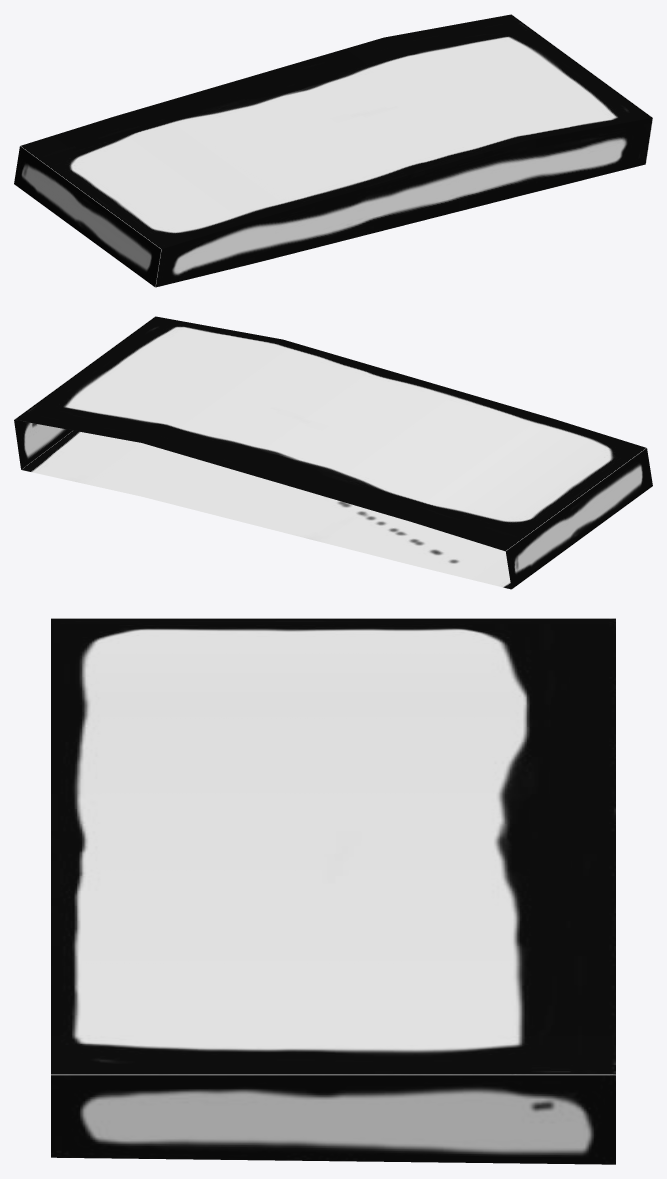
The model's file is pressurePlate.fbx.
3 renders of one model, top to bottom at view 1: azimuth 30°, elevation 25°; view 2: azimuth 150°, elevation 25°; view 3: azimuth 270°, elevation 25°, orthographic. The views are drawn at different scales.
Parts seen in each view (by area): view 1: pressurePlate:pressurePlate; view 2: pressurePlate:pressurePlate; view 3: pressurePlate:pressurePlate.
Boxes of the visible parts, x1=… form: pressurePlate:pressurePlate: x1=14, y1=14, x2=652, y2=287; pressurePlate:pressurePlate: x1=14, y1=316, x2=652, y2=589; pressurePlate:pressurePlate: x1=51, y1=618, x2=615, y2=1164.
Size of the model in its own units: 98.11 by 10.62 by 48.25.
